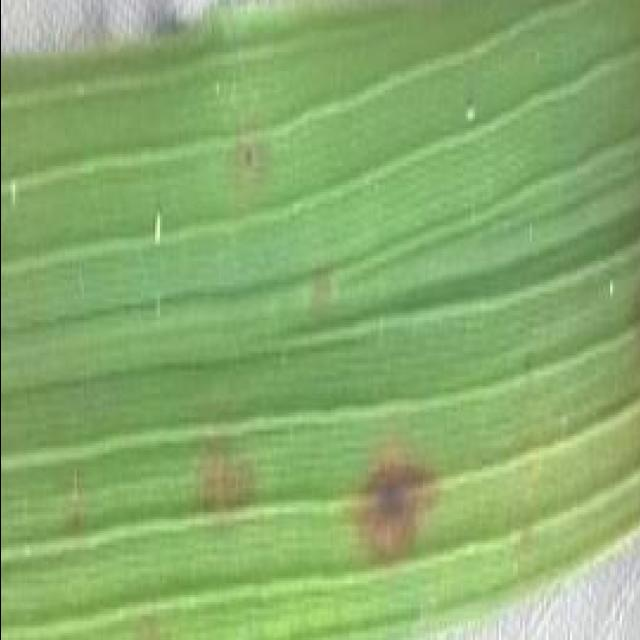Brown_Spot: (346, 432, 455, 576), (180, 438, 260, 538), (234, 130, 270, 176), (514, 339, 548, 384), (64, 502, 90, 538)
